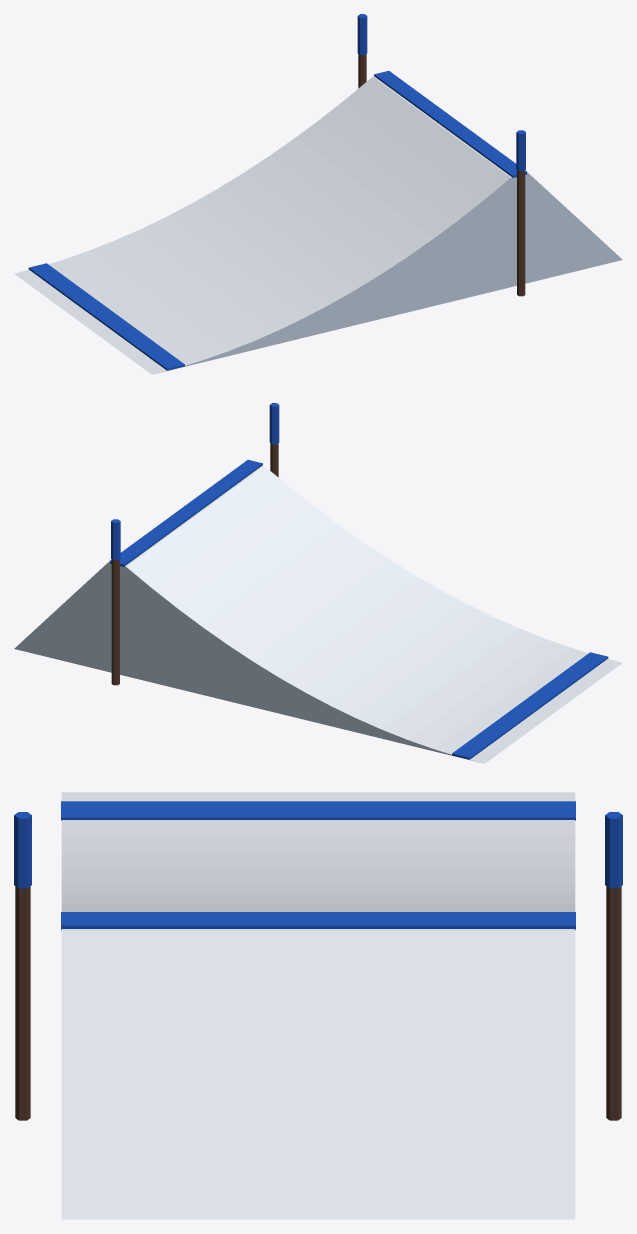
Rendered from kicker_small.glb.
3 renders of one model, top to bottom at view 1: azimuth 30°, elevation 25°; view 2: azimuth 150°, elevation 25°; view 3: azimuth 270°, elevation 25°, orthographic. The views are drawn at different scales.
Parts seen in each view (by area): view 1: kicker_small; view 2: kicker_small; view 3: kicker_small.
Boxes of the visible parts, x1,y1,x2,y2 form: kicker_small: (14, 14, 622, 374); kicker_small: (14, 403, 622, 763); kicker_small: (14, 792, 622, 1219).
Bounding box in the file's own units: 15.75 × 5.2 × 9.48.
1 material, 1 textured.
